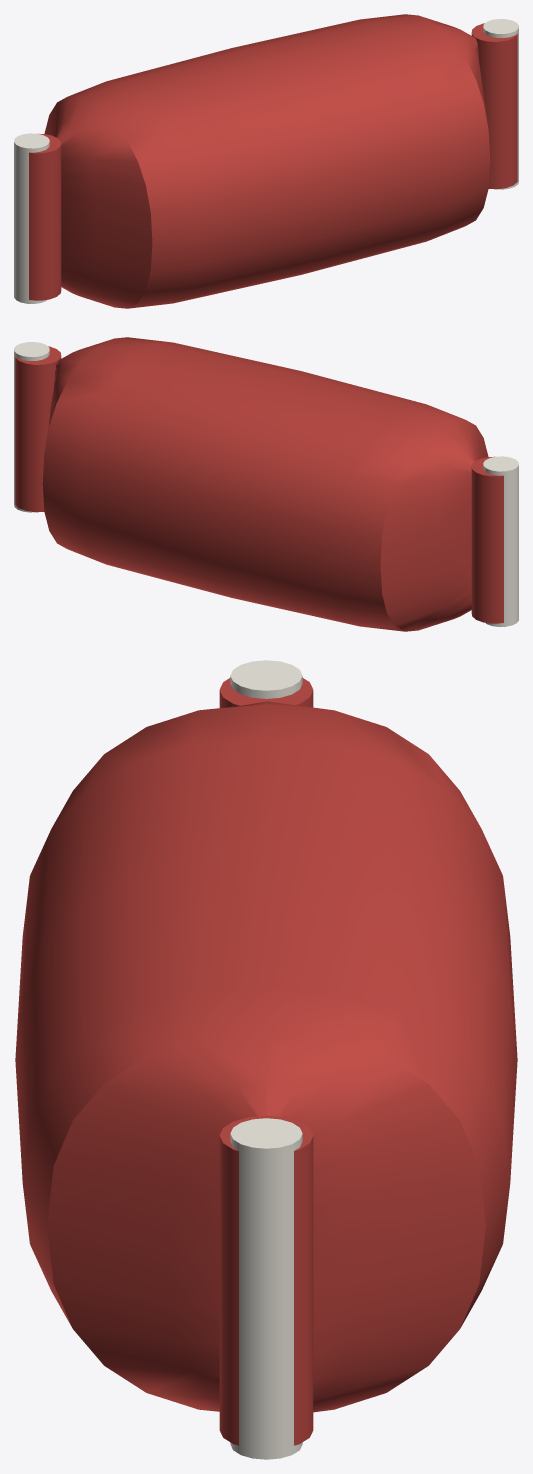
The model's file is roll_bag.glb.
3 views of the same model, one above another, from view 1: azimuth 30°, elevation 25°; view 2: azimuth 150°, elevation 25°; view 3: azimuth 270°, elevation 25° (orthographic). The views are drawn at different scales.
Visible parts, largest first — view 1: lod0; view 2: lod0; view 3: lod0.
Boxes of the visible parts, x1,y1,x2,y2 form: lod0: (14,14,518,308); lod0: (14,337,518,631); lod0: (15,660,517,1459).
Size of what is drawn, in the model's own units: 0.64 by 0.246 by 0.2781.
